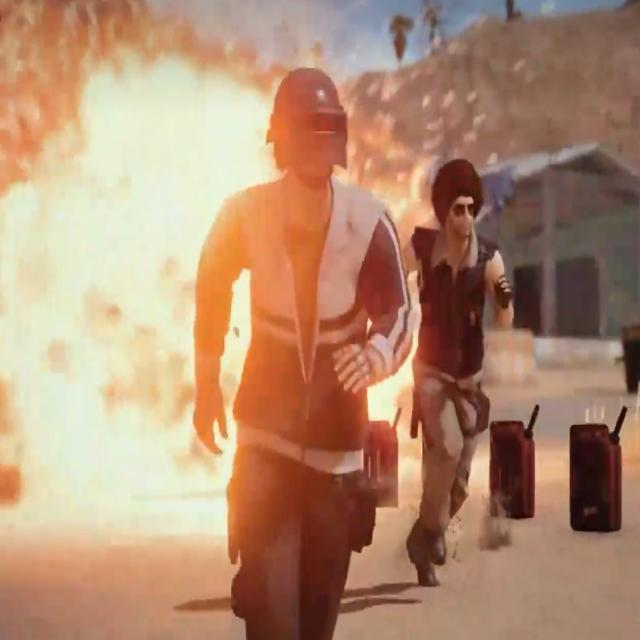fire: (0, 43, 410, 529)
